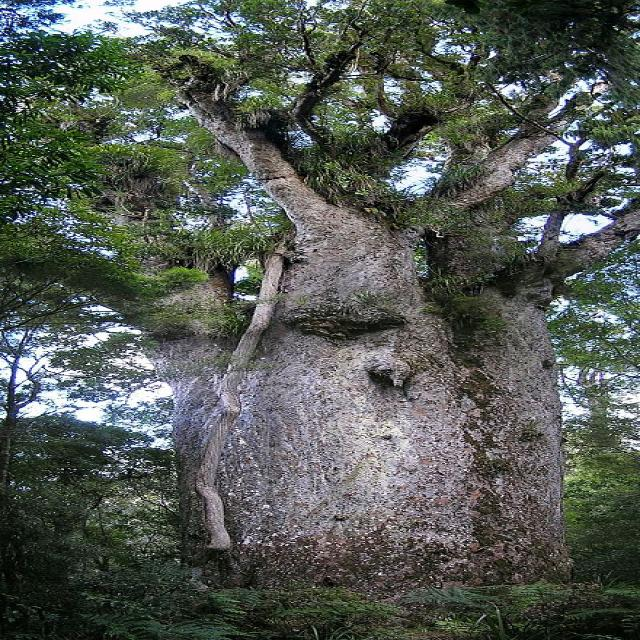Kauri: (109, 10, 611, 582)
